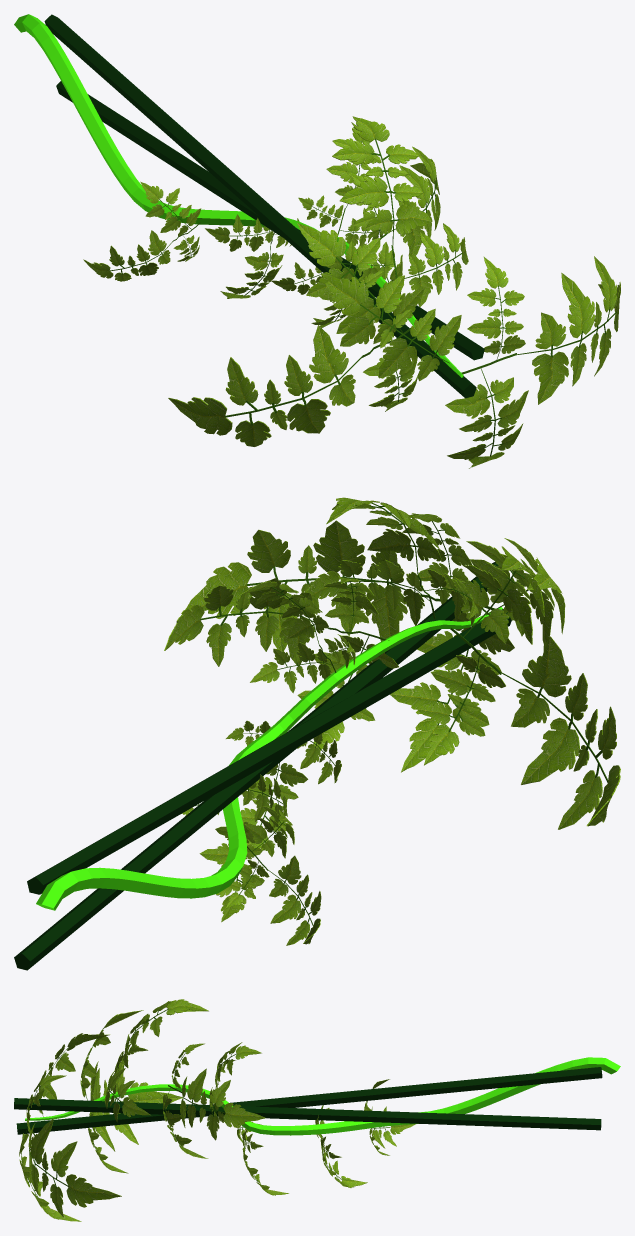
The model's file is tomato_plant.obj.
3 renders of one model, top to bottom at view 1: azimuth 30°, elevation 25°; view 2: azimuth 150°, elevation 25°; view 3: azimuth 270°, elevation 25°, orthographic. The views are drawn at different scales.
Parts seen in each view (by area): view 1: Plane.001_Plane.011, Plane.002_Plane.012, stick.001_Cylinder.003, leaf_cluster.002_Plane.002, Cylinder.001_Cylinder.002, leaf_cluster_Plane.004, stick_Cylinder.001, Plane.007_Plane.005, leaf_cluster.001_Plane.001, Plane.003_Plane.013, leaf_cluster.003_Plane.003, Plane.005_Plane.016 (+2 smaller); view 2: Plane.001_Plane.011, stick.001_Cylinder.003, Cylinder.001_Cylinder.002, leaf_cluster_Plane.004, Plane.003_Plane.013, stick_Cylinder.001, Plane.002_Plane.012, Plane.007_Plane.005, Plane.006_Plane.017, leaf_cluster.001_Plane.001, Plane.004_Plane.014, leaf_cluster.002_Plane.002 (+2 smaller); view 3: stick_Cylinder.001, stick.001_Cylinder.003, Cylinder.001_Cylinder.002, Plane.003_Plane.013, leaf_cluster_Plane.004, Plane.001_Plane.011, Plane.002_Plane.012, leaf_cluster.002_Plane.002, Plane.006_Plane.017, leaf_cluster.001_Plane.001, Plane.005_Plane.016, Plane.007_Plane.005 (+2 smaller).
Part boxes in pixels (bbox=[...]): Plane.001_Plane.011: bbox=[168, 223, 424, 446]; Plane.002_Plane.012: bbox=[318, 116, 468, 306]; stick.001_Cylinder.003: bbox=[44, 14, 476, 398]; leaf_cluster.002_Plane.002: bbox=[323, 276, 461, 381]; Cylinder.001_Cylinder.002: bbox=[14, 14, 463, 377]; leaf_cluster_Plane.004: bbox=[516, 256, 620, 404]; stick_Cylinder.001: bbox=[56, 81, 484, 360]; Plane.007_Plane.005: bbox=[83, 181, 201, 281]; leaf_cluster.001_Plane.001: bbox=[445, 368, 528, 468]; Plane.003_Plane.013: bbox=[346, 146, 440, 322]; leaf_cluster.003_Plane.003: bbox=[467, 256, 525, 360]; Plane.005_Plane.016: bbox=[205, 214, 299, 298]; Plane.001_Plane.011: bbox=[417, 541, 620, 829]; stick.001_Cylinder.003: bbox=[27, 609, 511, 894]; Cylinder.001_Cylinder.002: bbox=[36, 607, 502, 910]; leaf_cluster_Plane.004: bbox=[181, 520, 421, 651]; Plane.003_Plane.013: bbox=[164, 576, 399, 751]; stick_Cylinder.001: bbox=[14, 562, 498, 970]; Plane.002_Plane.012: bbox=[305, 497, 478, 625]; Plane.007_Plane.005: bbox=[226, 806, 321, 945]; Plane.006_Plane.017: bbox=[240, 581, 355, 693]; leaf_cluster.001_Plane.001: bbox=[390, 612, 514, 772]; Plane.004_Plane.014: bbox=[226, 720, 341, 849]; leaf_cluster.002_Plane.002: bbox=[470, 538, 565, 643]; stick_Cylinder.001: bbox=[14, 1098, 601, 1130]; stick.001_Cylinder.003: bbox=[16, 1067, 602, 1134]; Cylinder.001_Cylinder.002: bbox=[25, 1057, 620, 1135]; Plane.003_Plane.013: bbox=[163, 1043, 265, 1158]; leaf_cluster_Plane.004: bbox=[28, 1118, 121, 1216]; Plane.001_Plane.011: bbox=[80, 1010, 182, 1173]; Plane.002_Plane.012: bbox=[104, 999, 208, 1122]; leaf_cluster.002_Plane.002: bbox=[39, 1033, 110, 1116]; Plane.006_Plane.017: bbox=[209, 1042, 261, 1122]; leaf_cluster.001_Plane.001: bbox=[19, 1128, 81, 1221]; Plane.005_Plane.016: bbox=[315, 1105, 367, 1187]; Plane.007_Plane.005: bbox=[364, 1079, 415, 1155].
Bounding box in the file's own units: 0.6721 × 0.4783 × 1.27.
Materials: 4 (1 with a texture image).
